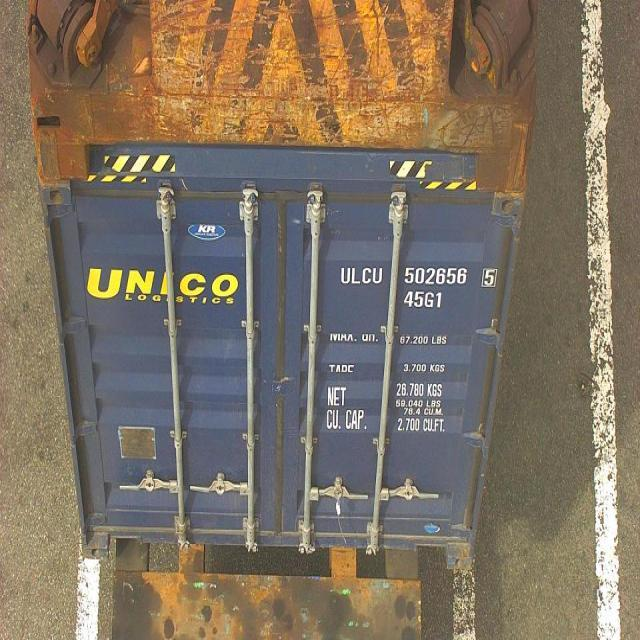ISO: (403, 290, 445, 309)
container_number: (339, 260, 496, 288)
